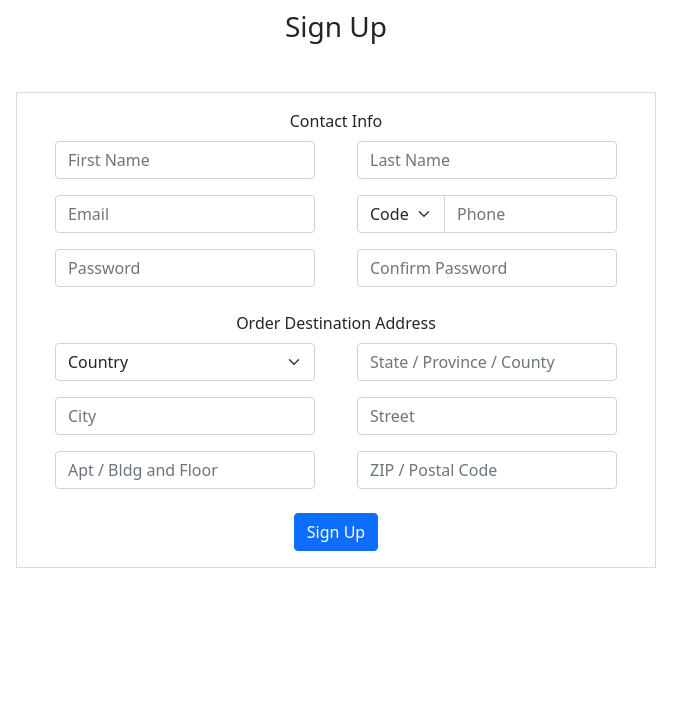
Test: Testing SignUp component › Testing the component when the confirmation password do not match the password
# writing a password
Type "qwertY6," into the password field with placeholder "Password" at (185,268), box left=55, top=249, right=315, bottom=287
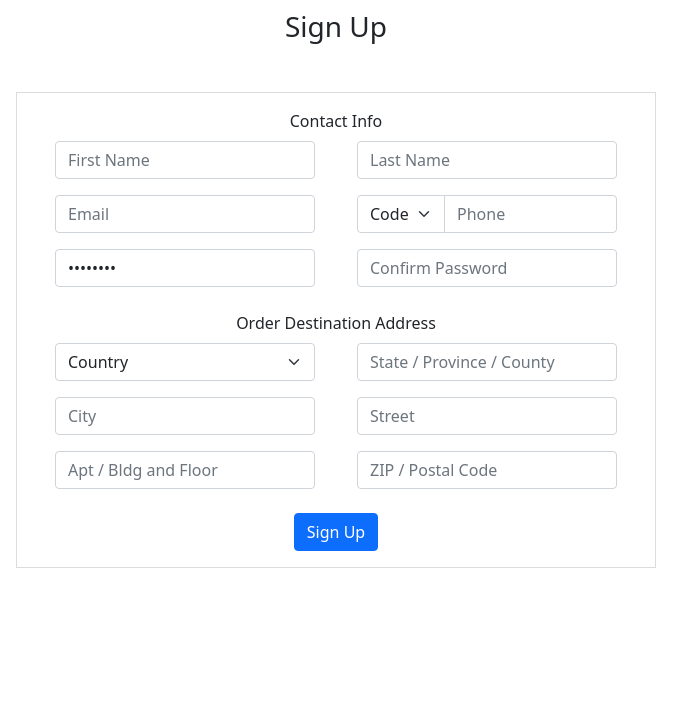
# writing password confirmation that dont match the password
Type "blablabla" into the password field with placeholder "Confirm Password" at (487,268), box left=357, top=249, right=617, bottom=287
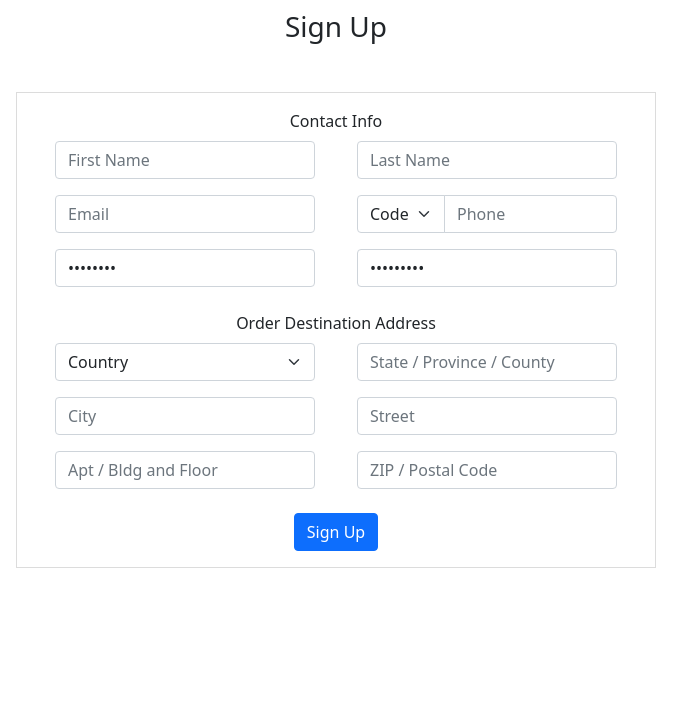
# clicking the sign up button
Click the button "Sign Up" at (336,532), box left=294, top=513, right=378, bottom=551
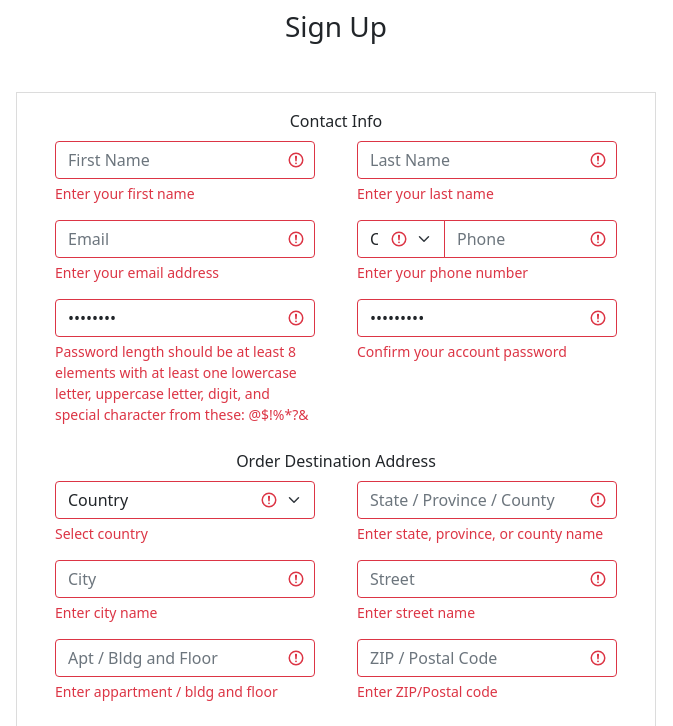
Expected: the text "Confirm your account password" is shown, left=357, top=342, right=567, bottom=361
